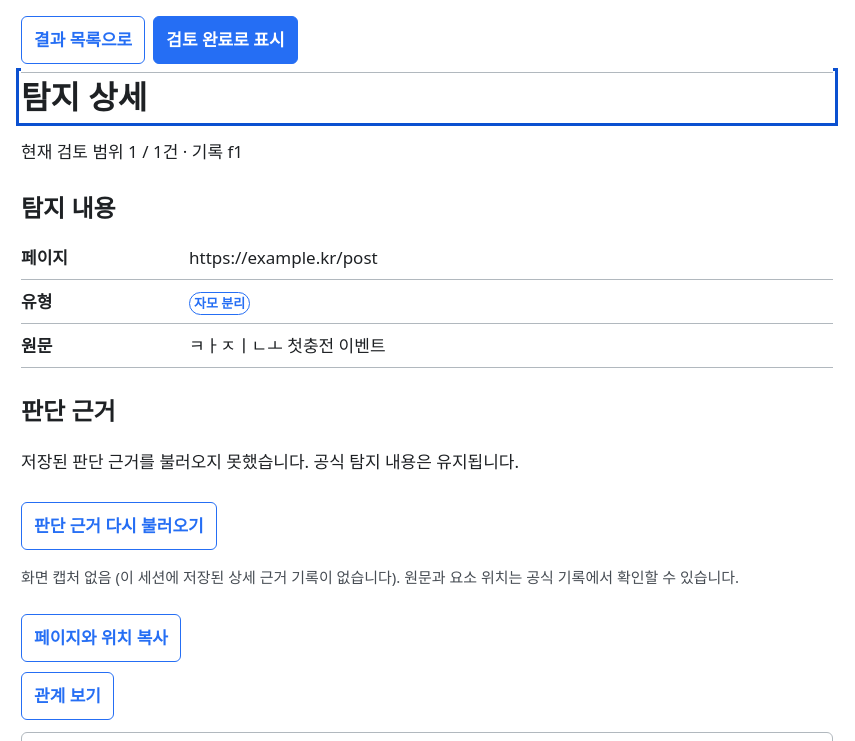
finding evidence presentation › recovers only a failed detail read while retaining the official evidence
The width and height of the screenshot is (855, 741).
Expected: the message "저장된 판단 근거를 불러오지 못했습니다. 공식 탐지 내용은 유지됩니다." is shown, [21,450,519,472]
Click the button "판단 근거 다시 불러오기" at (119, 526), box [21,502,217,550]
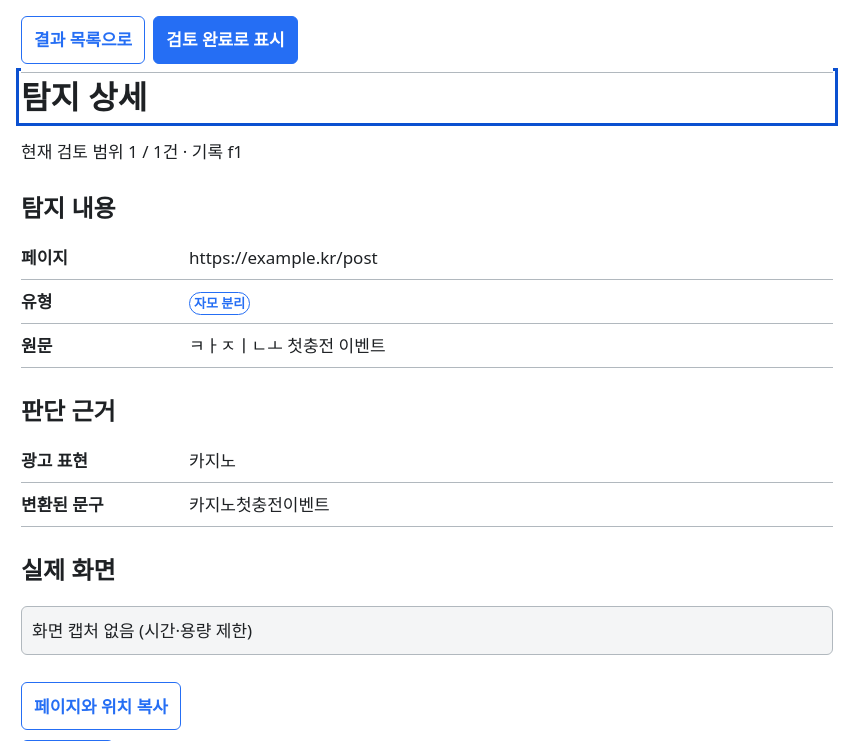
Expected: the text "카지노첫충전이벤트" is shown, [189,493,330,516]
Expected: the message "저장된 판단 근거를 불러오지 못했습니다. 공식 탐지 내용은 유지됩니다." is gone
Expected: the button "판단 근거 다시 불러오기" is gone
